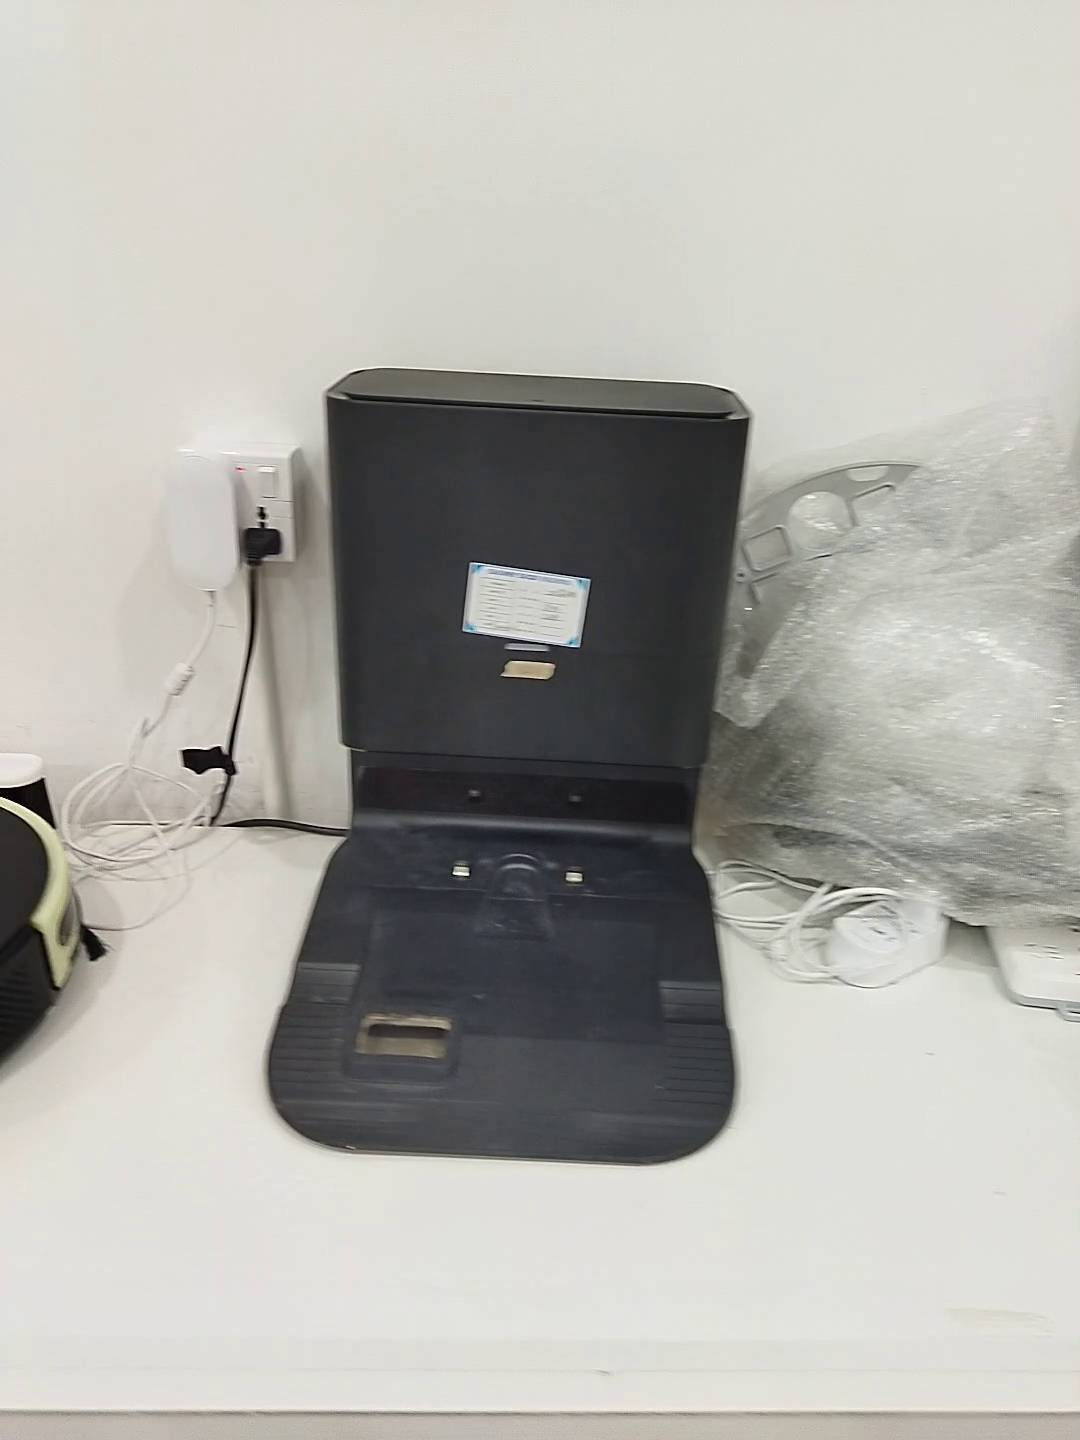dust collecting barrel: (265, 369, 751, 1166)
